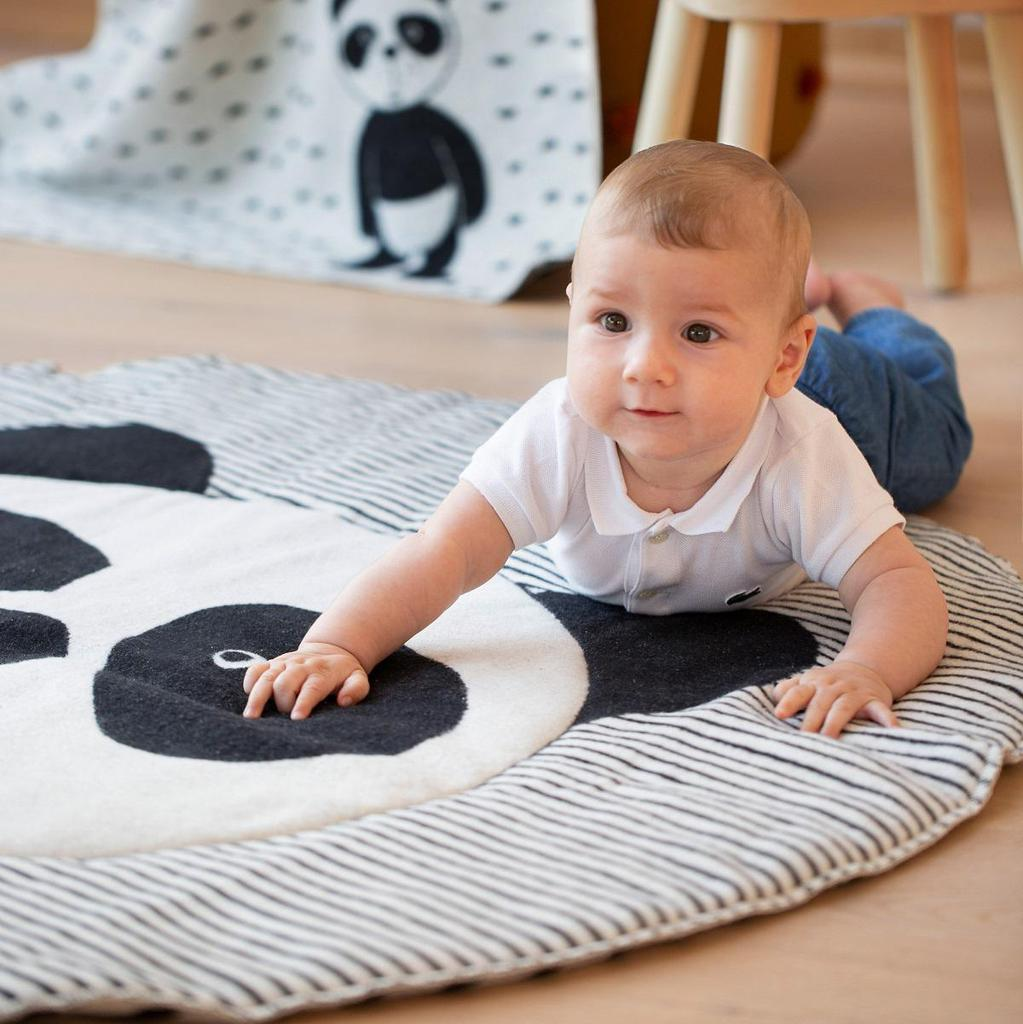child: (205, 116, 1001, 755)
